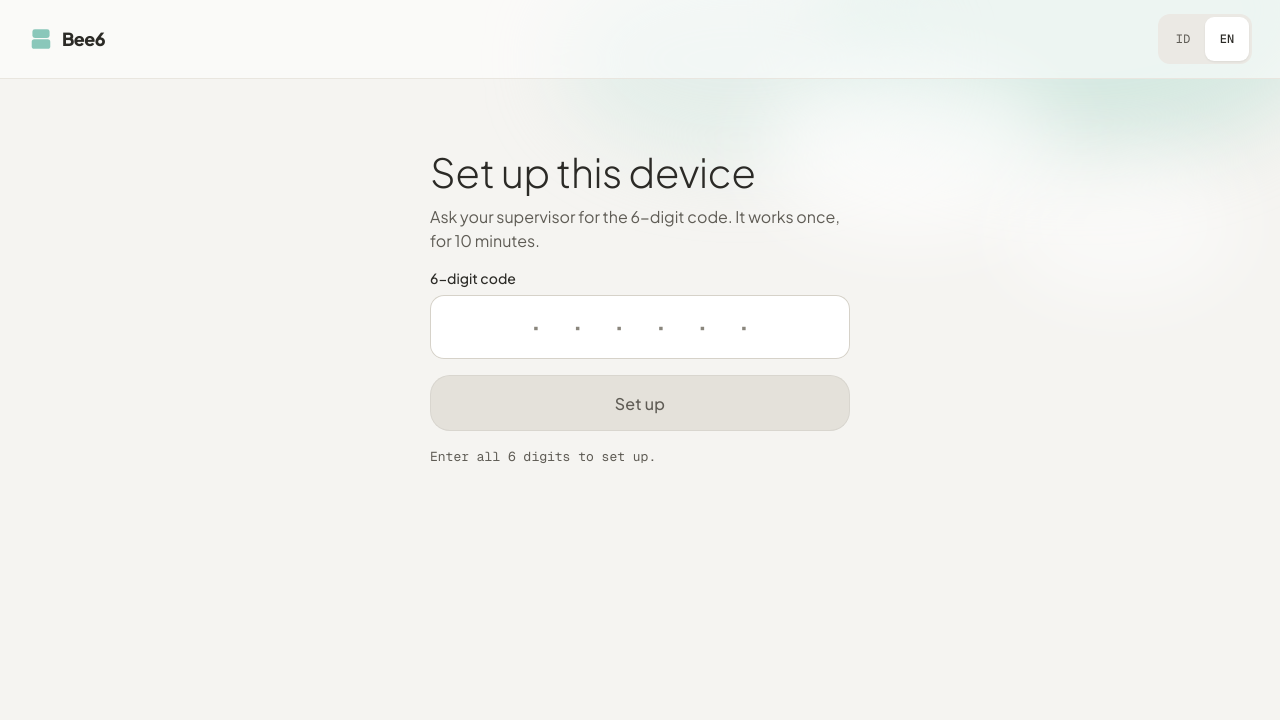
Test: PairScreen on the pilot (demo=false): Set up this device, pilot copy unchanged › maps a server error code to dictionary text and never renders the server message
Type "123456" into the field labelled "6-digit code". click: (640, 327)
box: [430,295,850,359]
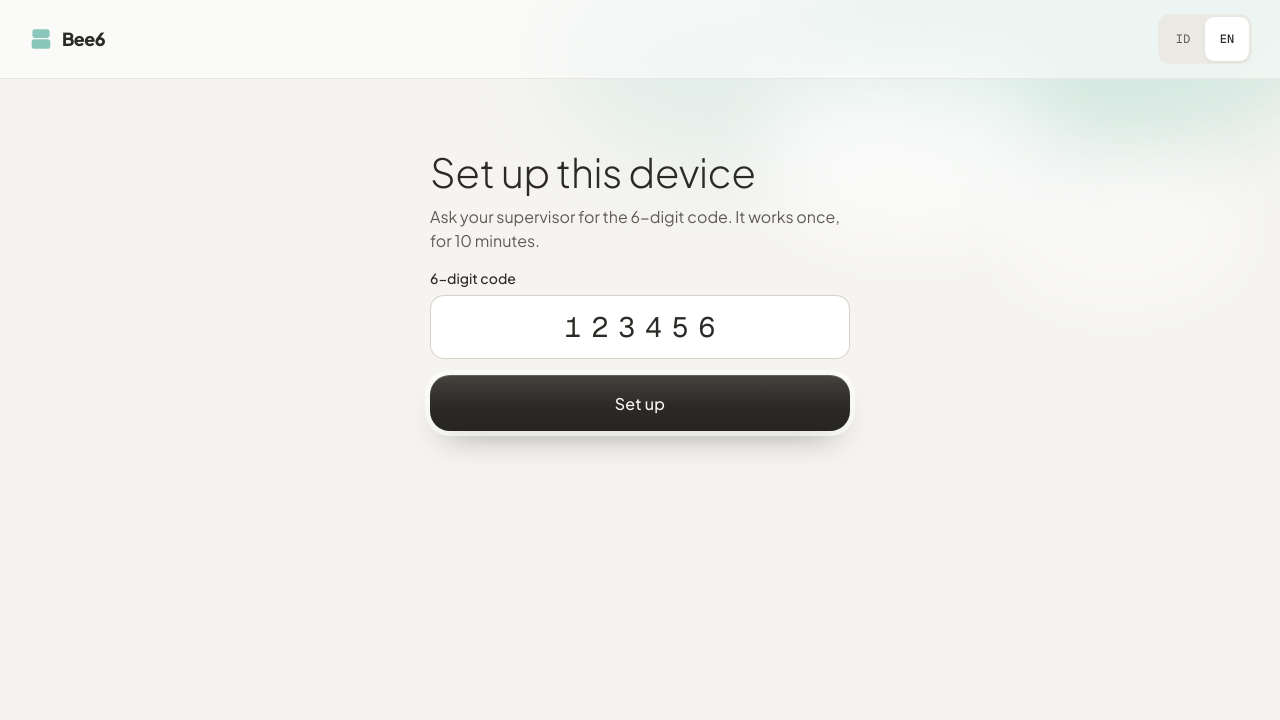
Click the button "Set up". click: (640, 403)
box: [430,375,850,431]
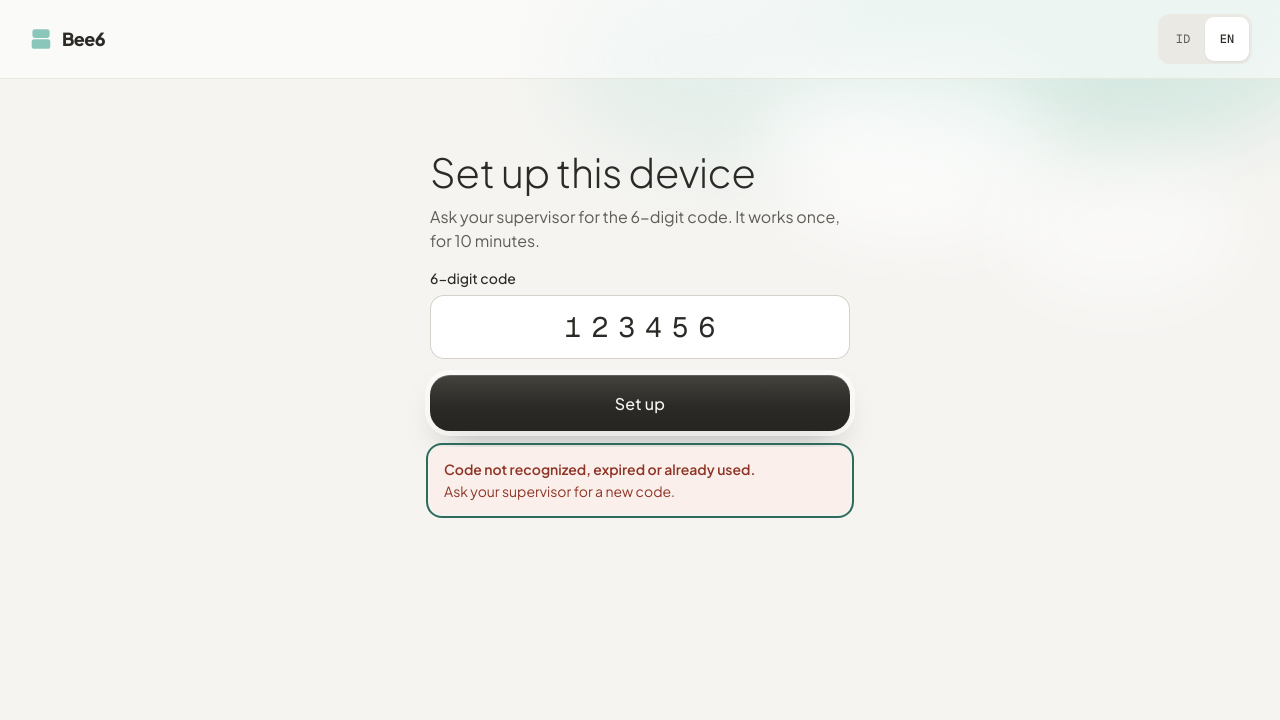
expect the message shows "Code not recognized, expired or already used.": met, box [444,460,755,478]
